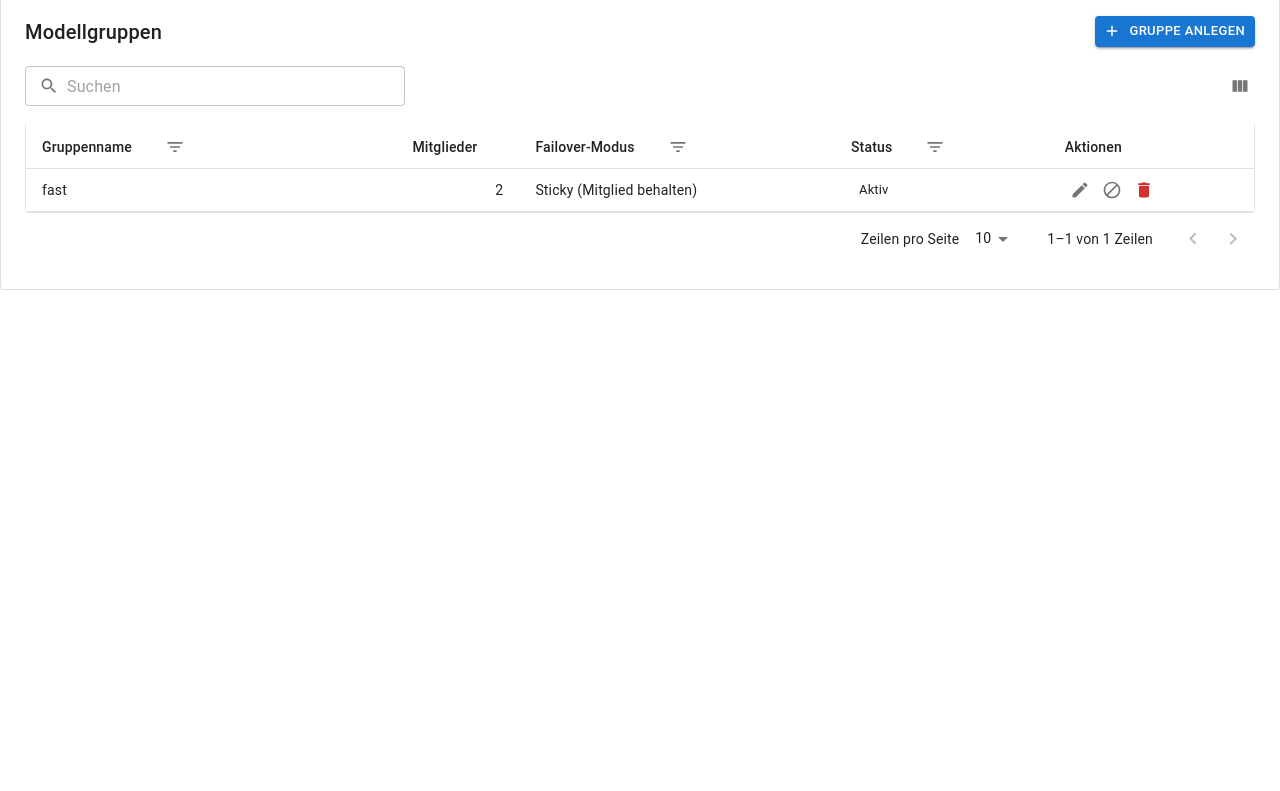
it: shows the stored selection values for a group loaded from the API
expect the text "fast" is shown: met, box [26,168,319,212]
Click the button named "Bearbeiten".
click(1080, 190)  # box [1065,175,1095,205]
(page scrolled)
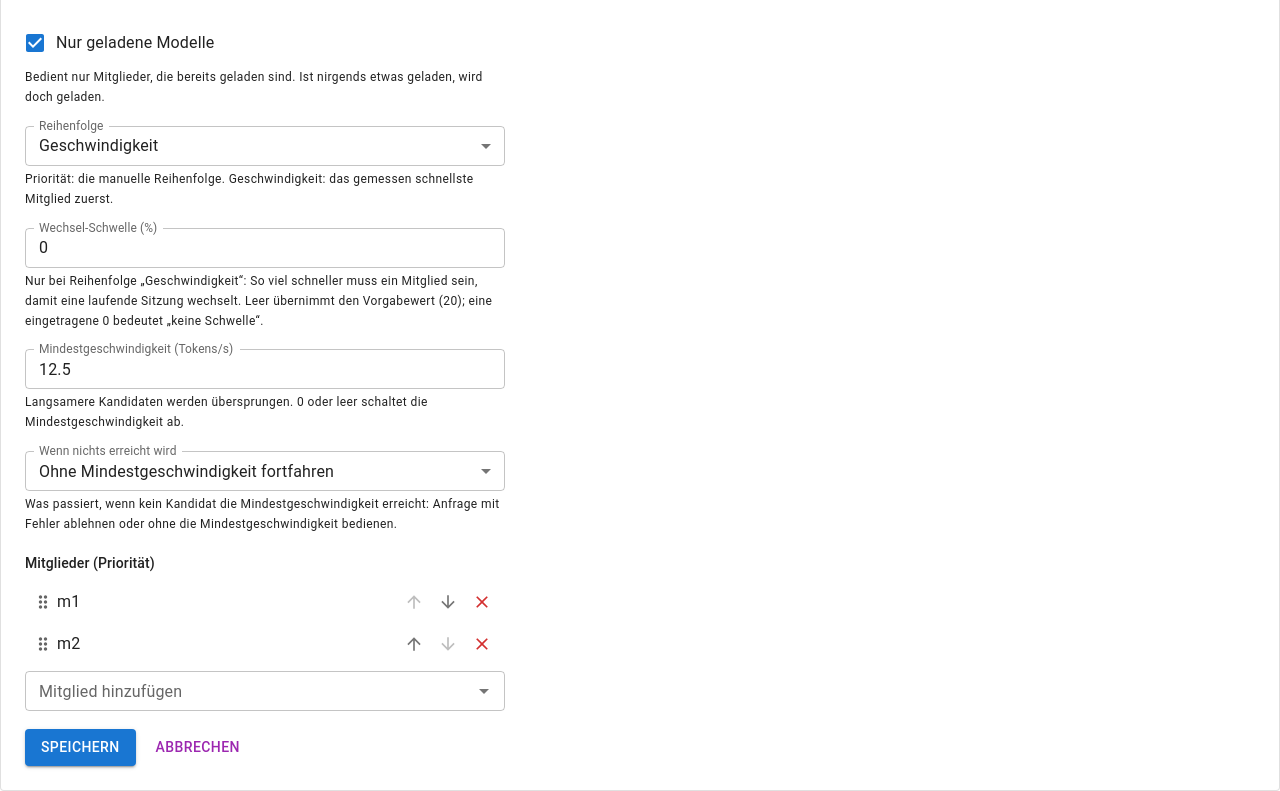
expect the checkbox labelled "Nur geladene Modelle" is checked: met, box [23,31,214,55]
expect the dropdown named "Reihenfolge" reads "Geschwindigkeit": met, box [39,136,158,155]
expect the number field labelled "Wechsel-Schwelle (%)" holds "0": met, box [25,228,505,268]
